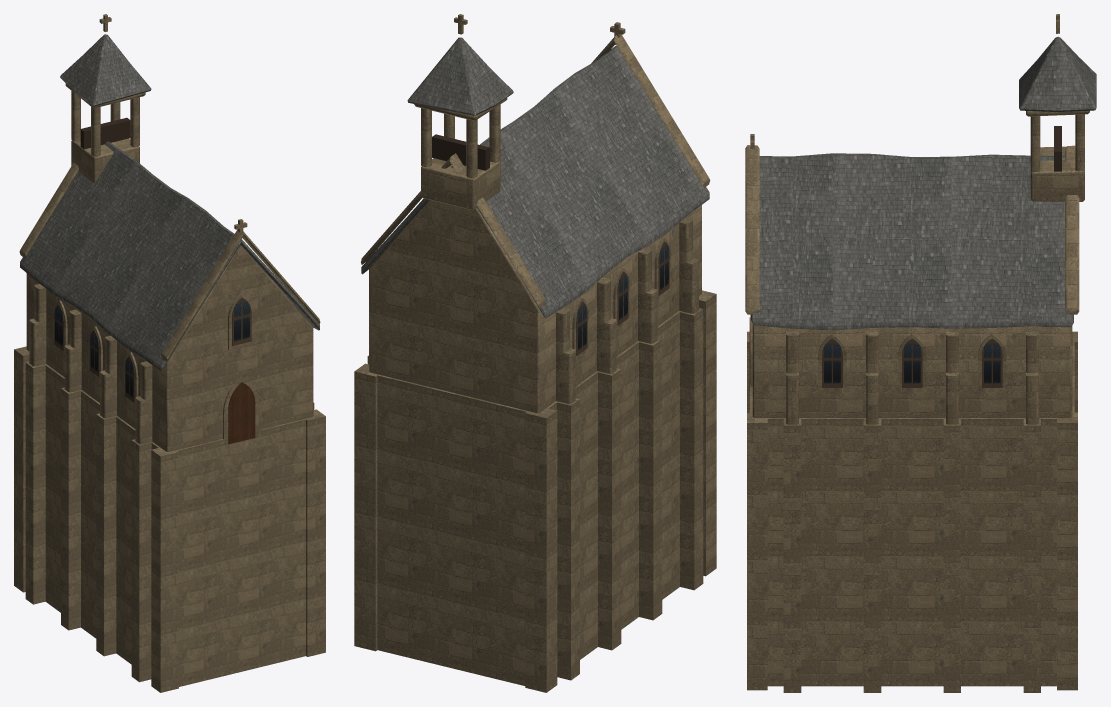
The model's file is chapel.glb.
3 renders of one model, left to right at view 1: azimuth 30°, elevation 25°; view 2: azimuth 150°, elevation 25°; view 3: azimuth 270°, elevation 25°, orthographic. The views are drawn at different scales.
Visible parts, largest first — view 1: chapel_export; view 2: chapel_export; view 3: chapel_export.
Part boxes in pixels (left/top/right/bottom): chapel_export: left=14, top=14, right=325, bottom=692; chapel_export: left=354, top=14, right=716, bottom=692; chapel_export: left=745, top=14, right=1096, bottom=692.
Bounding box in the file's own units: 15.62 × 47.47 × 24.
4 materials, 4 textured.
